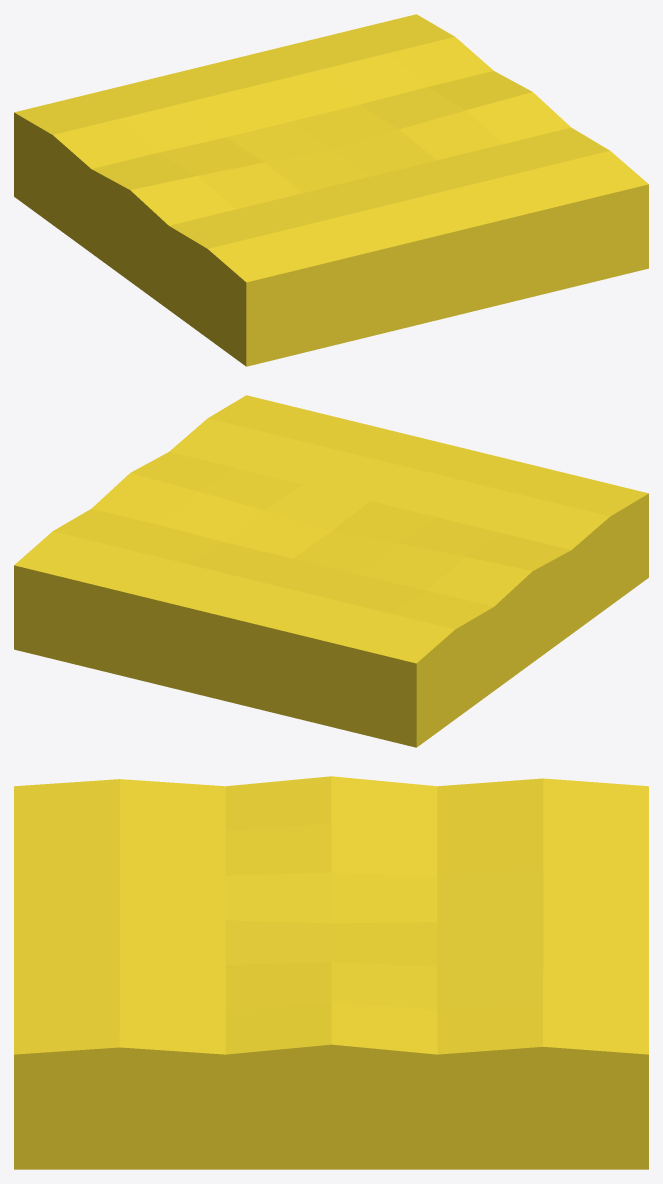
The model's file is sand.glb.
3 renders of one model, top to bottom at view 1: azimuth 30°, elevation 25°; view 2: azimuth 150°, elevation 25°; view 3: azimuth 270°, elevation 25°, orthographic. The views are drawn at different scales.
Visible parts, largest first — view 1: sand; view 2: sand; view 3: sand.
Boxes of the visible parts, x1,y1,x2,y2 form: sand: (14,14,648,366); sand: (14,395,648,747); sand: (14,776,648,1169).
Size of the model in its own units: 2 by 0.4347 by 2.
